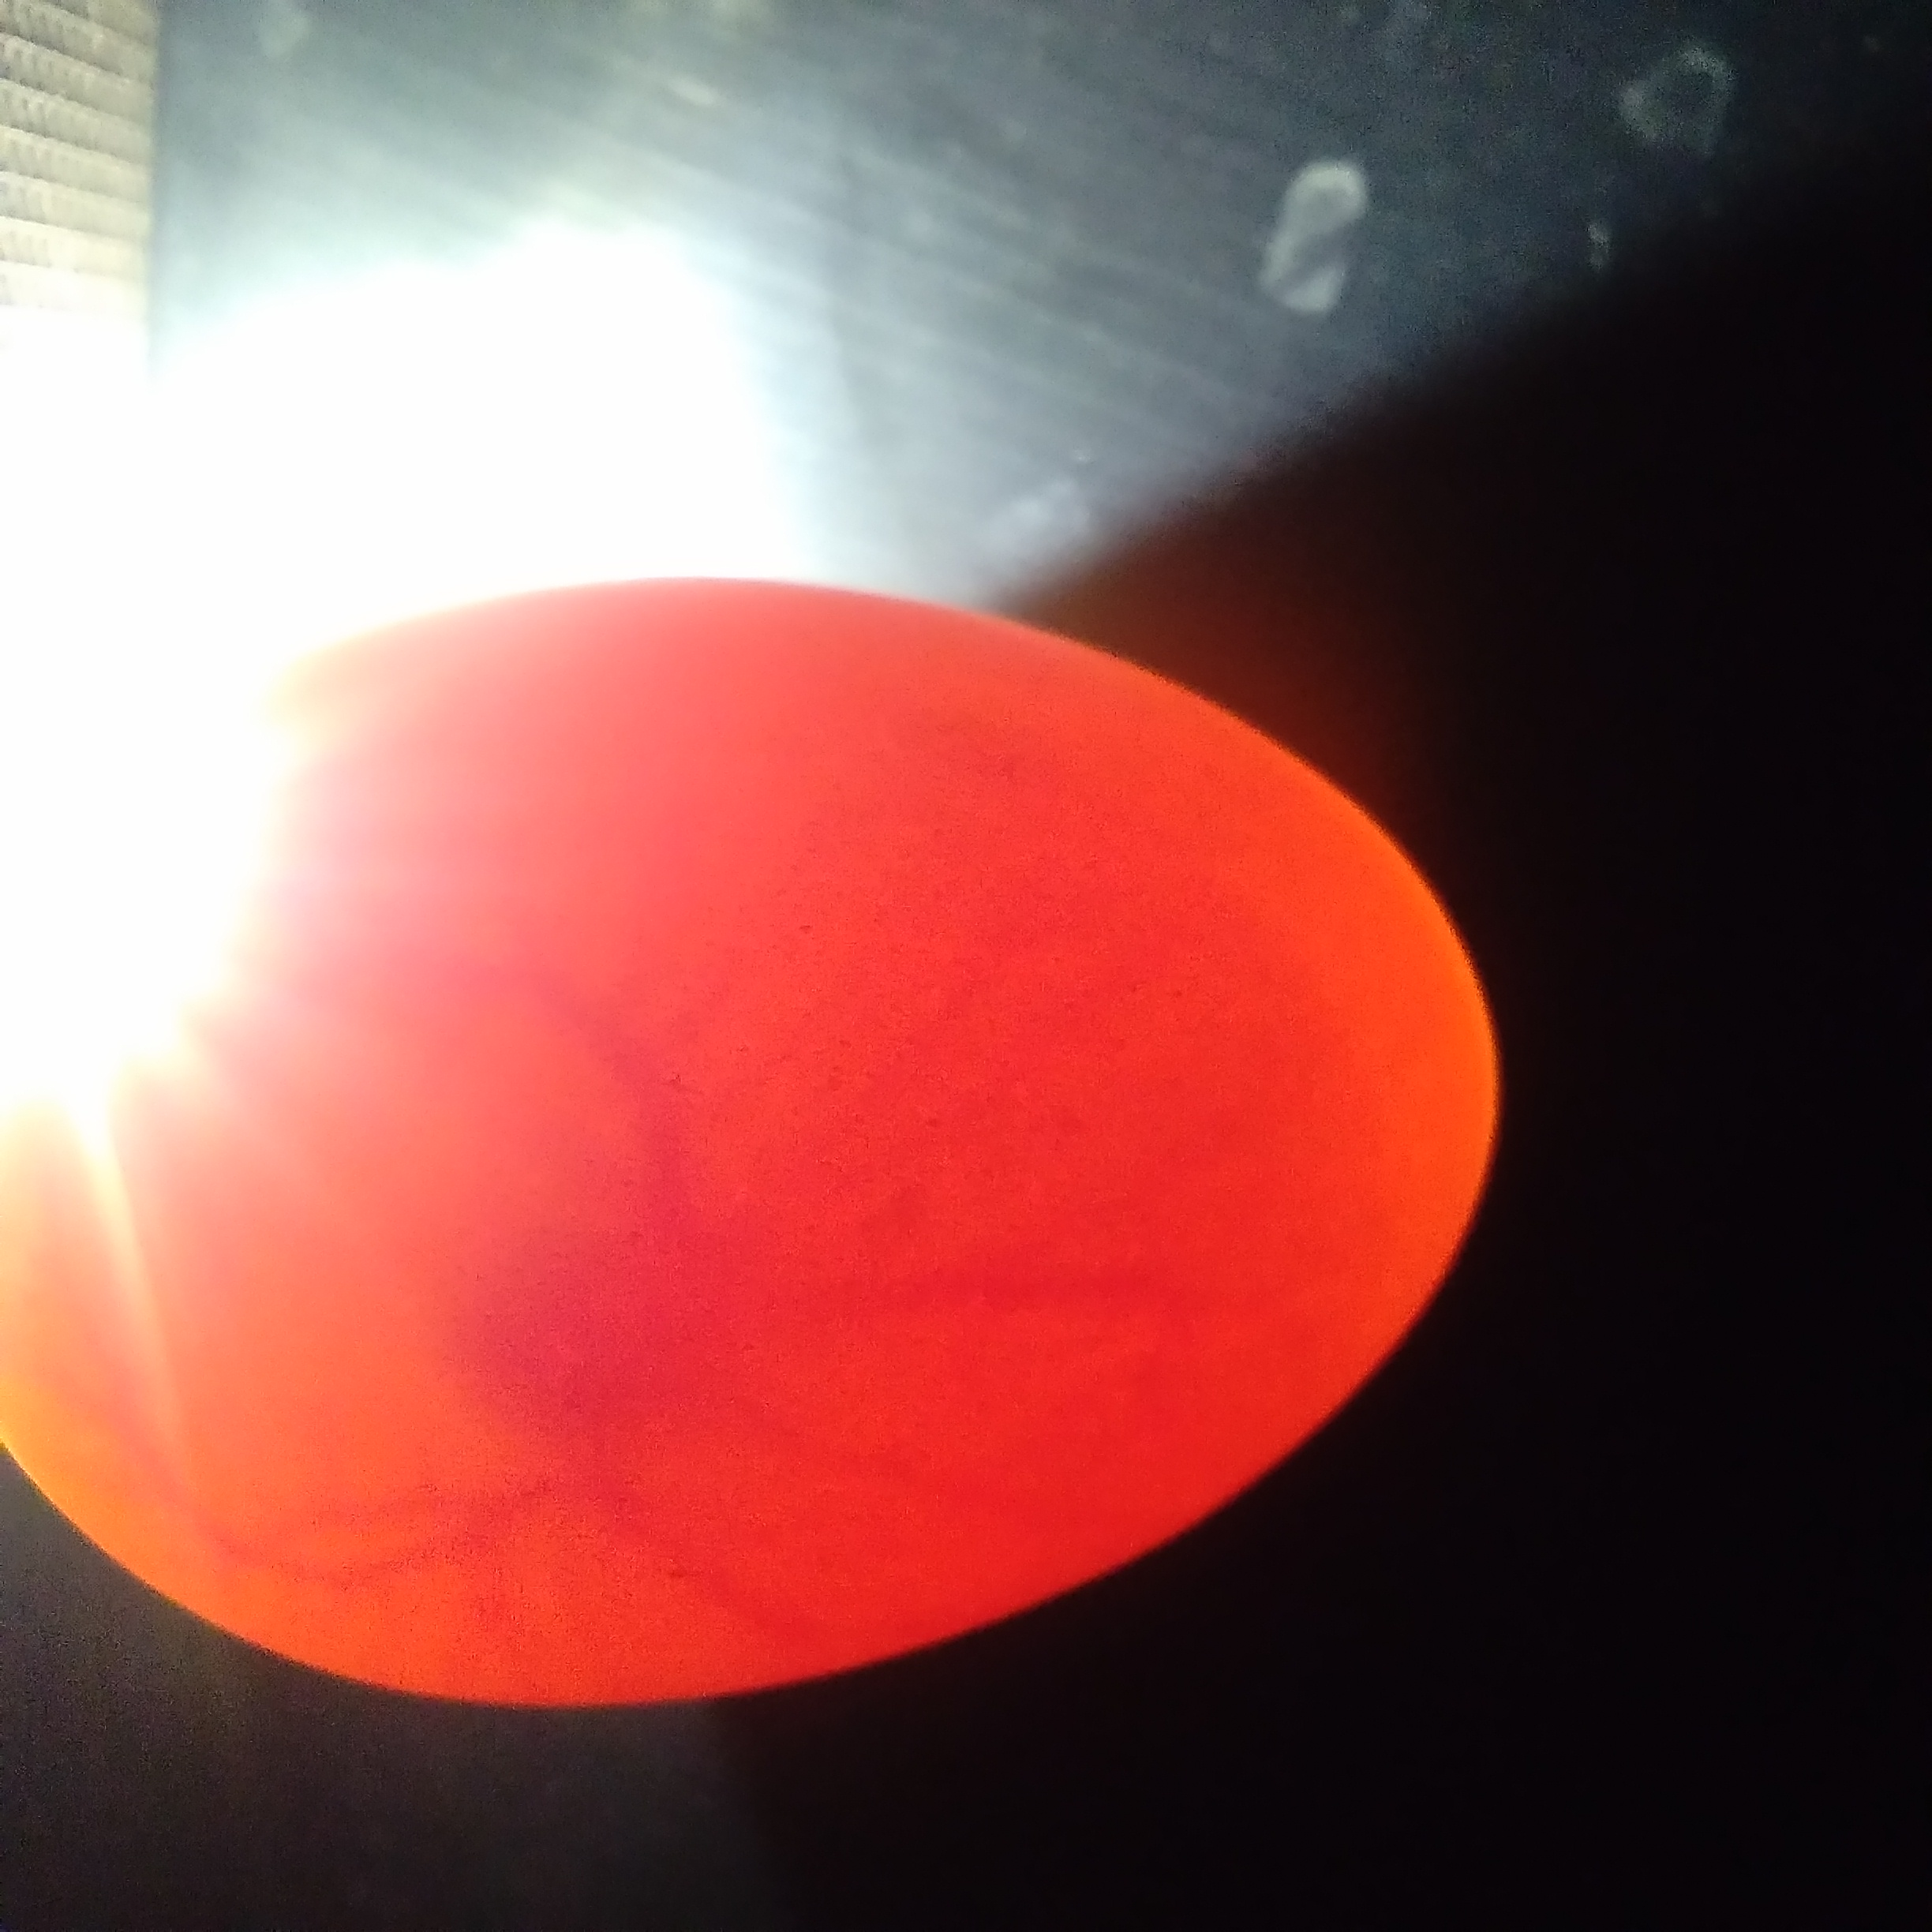bloodcell: (494, 984, 1014, 1191), (218, 1509, 828, 1647)
embryo: (495, 1201, 741, 1445)
